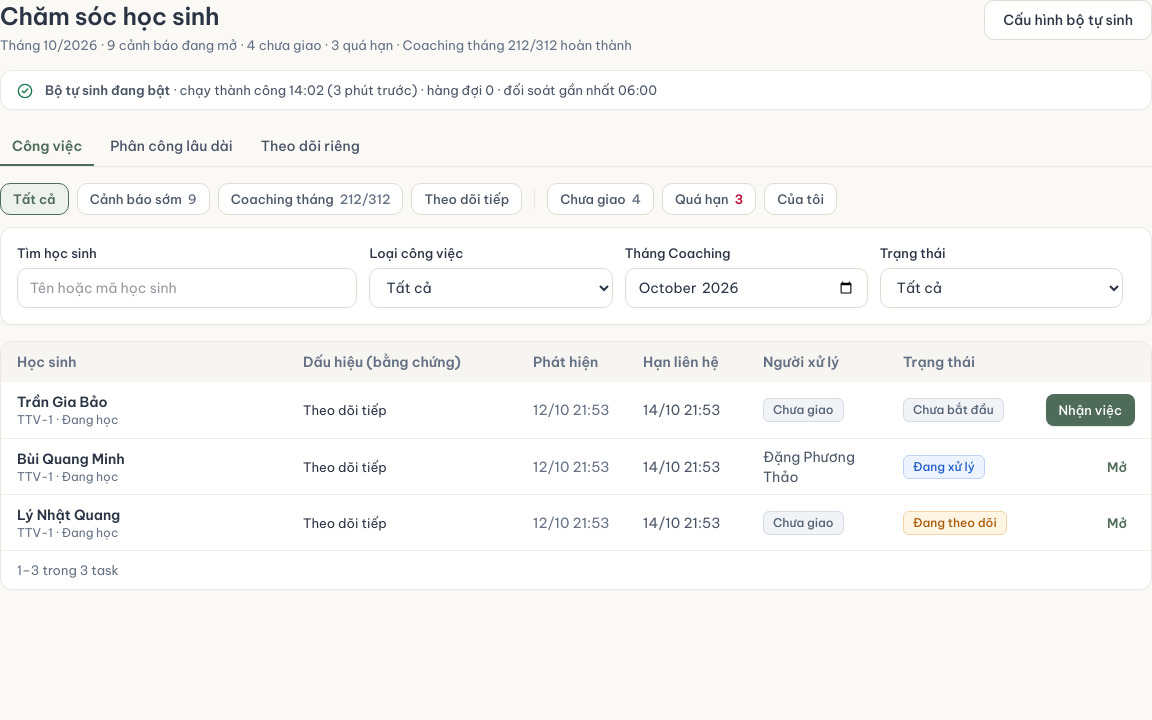
Scenario: student care queue (13a) › shows the month figures and gates the generator settings behind student_care.configure
Expected: the heading "Chăm sóc học sinh" is shown, [0,0,219,32]
Expected: the text "Tháng 10/2026 · 9 cảnh báo đang mở · 4 chưa giao · 3 quá hạn · Coaching tháng 212/312 hoàn thành" is shown, [0,37,632,53]
Click the button "Cấu hình bộ tự sinh".
click(1068, 20)  # box [984,0,1151,40]
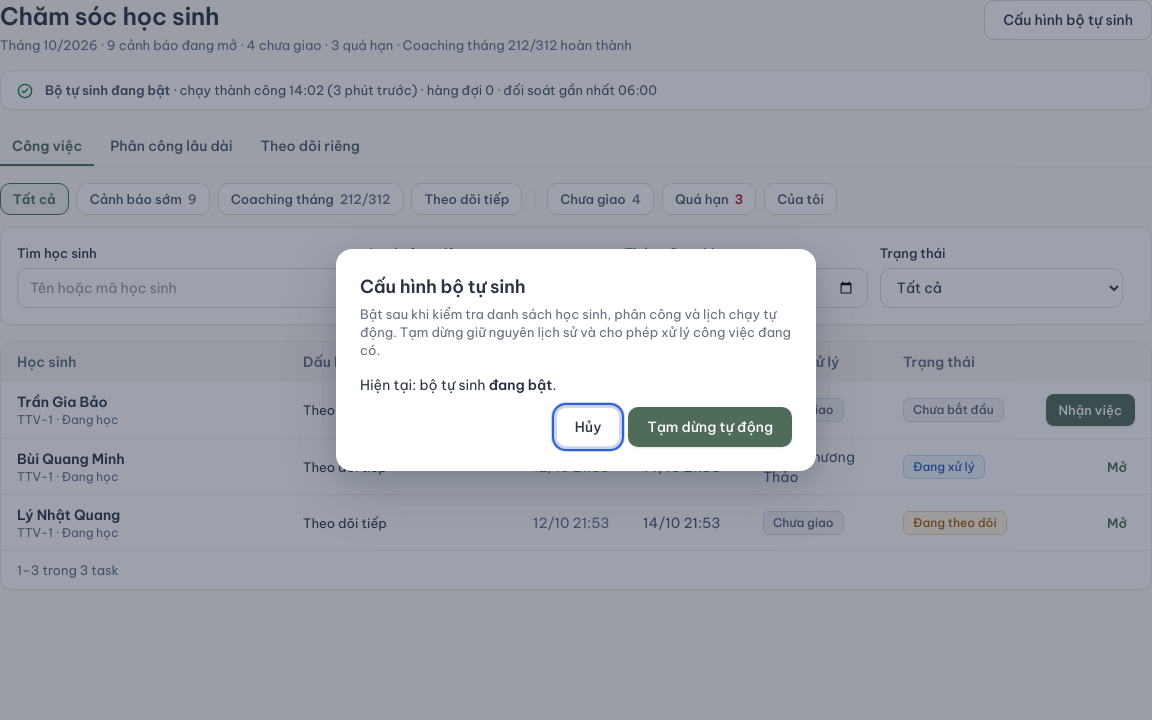
Expected: the button "Tạm dừng tự động" is shown, [628,407,792,447]
Expected: the text "Tạm dừng giữ nguyên lịch sử" is shown, [360,306,791,358]
